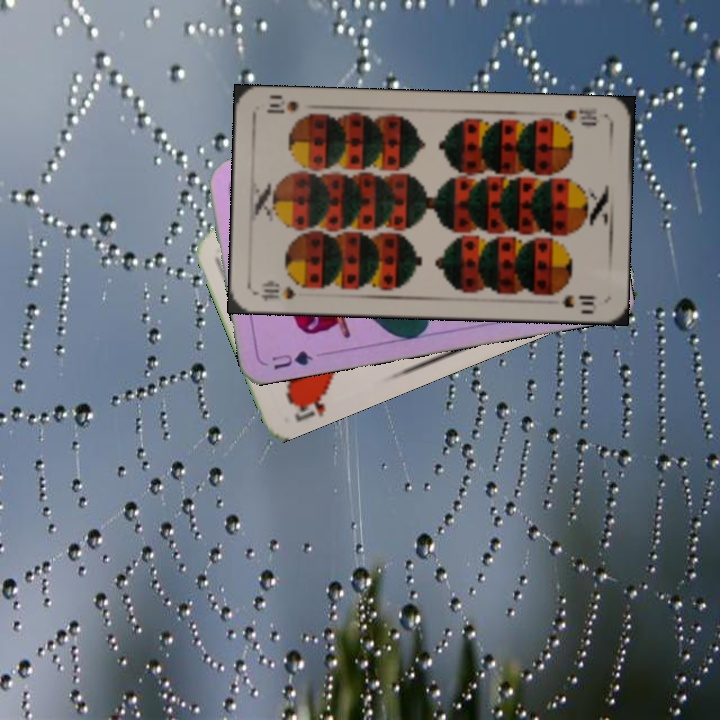GU: (268, 346, 315, 372)
HO: (285, 385, 333, 424)
S10: (253, 279, 299, 304), (561, 103, 602, 129)
